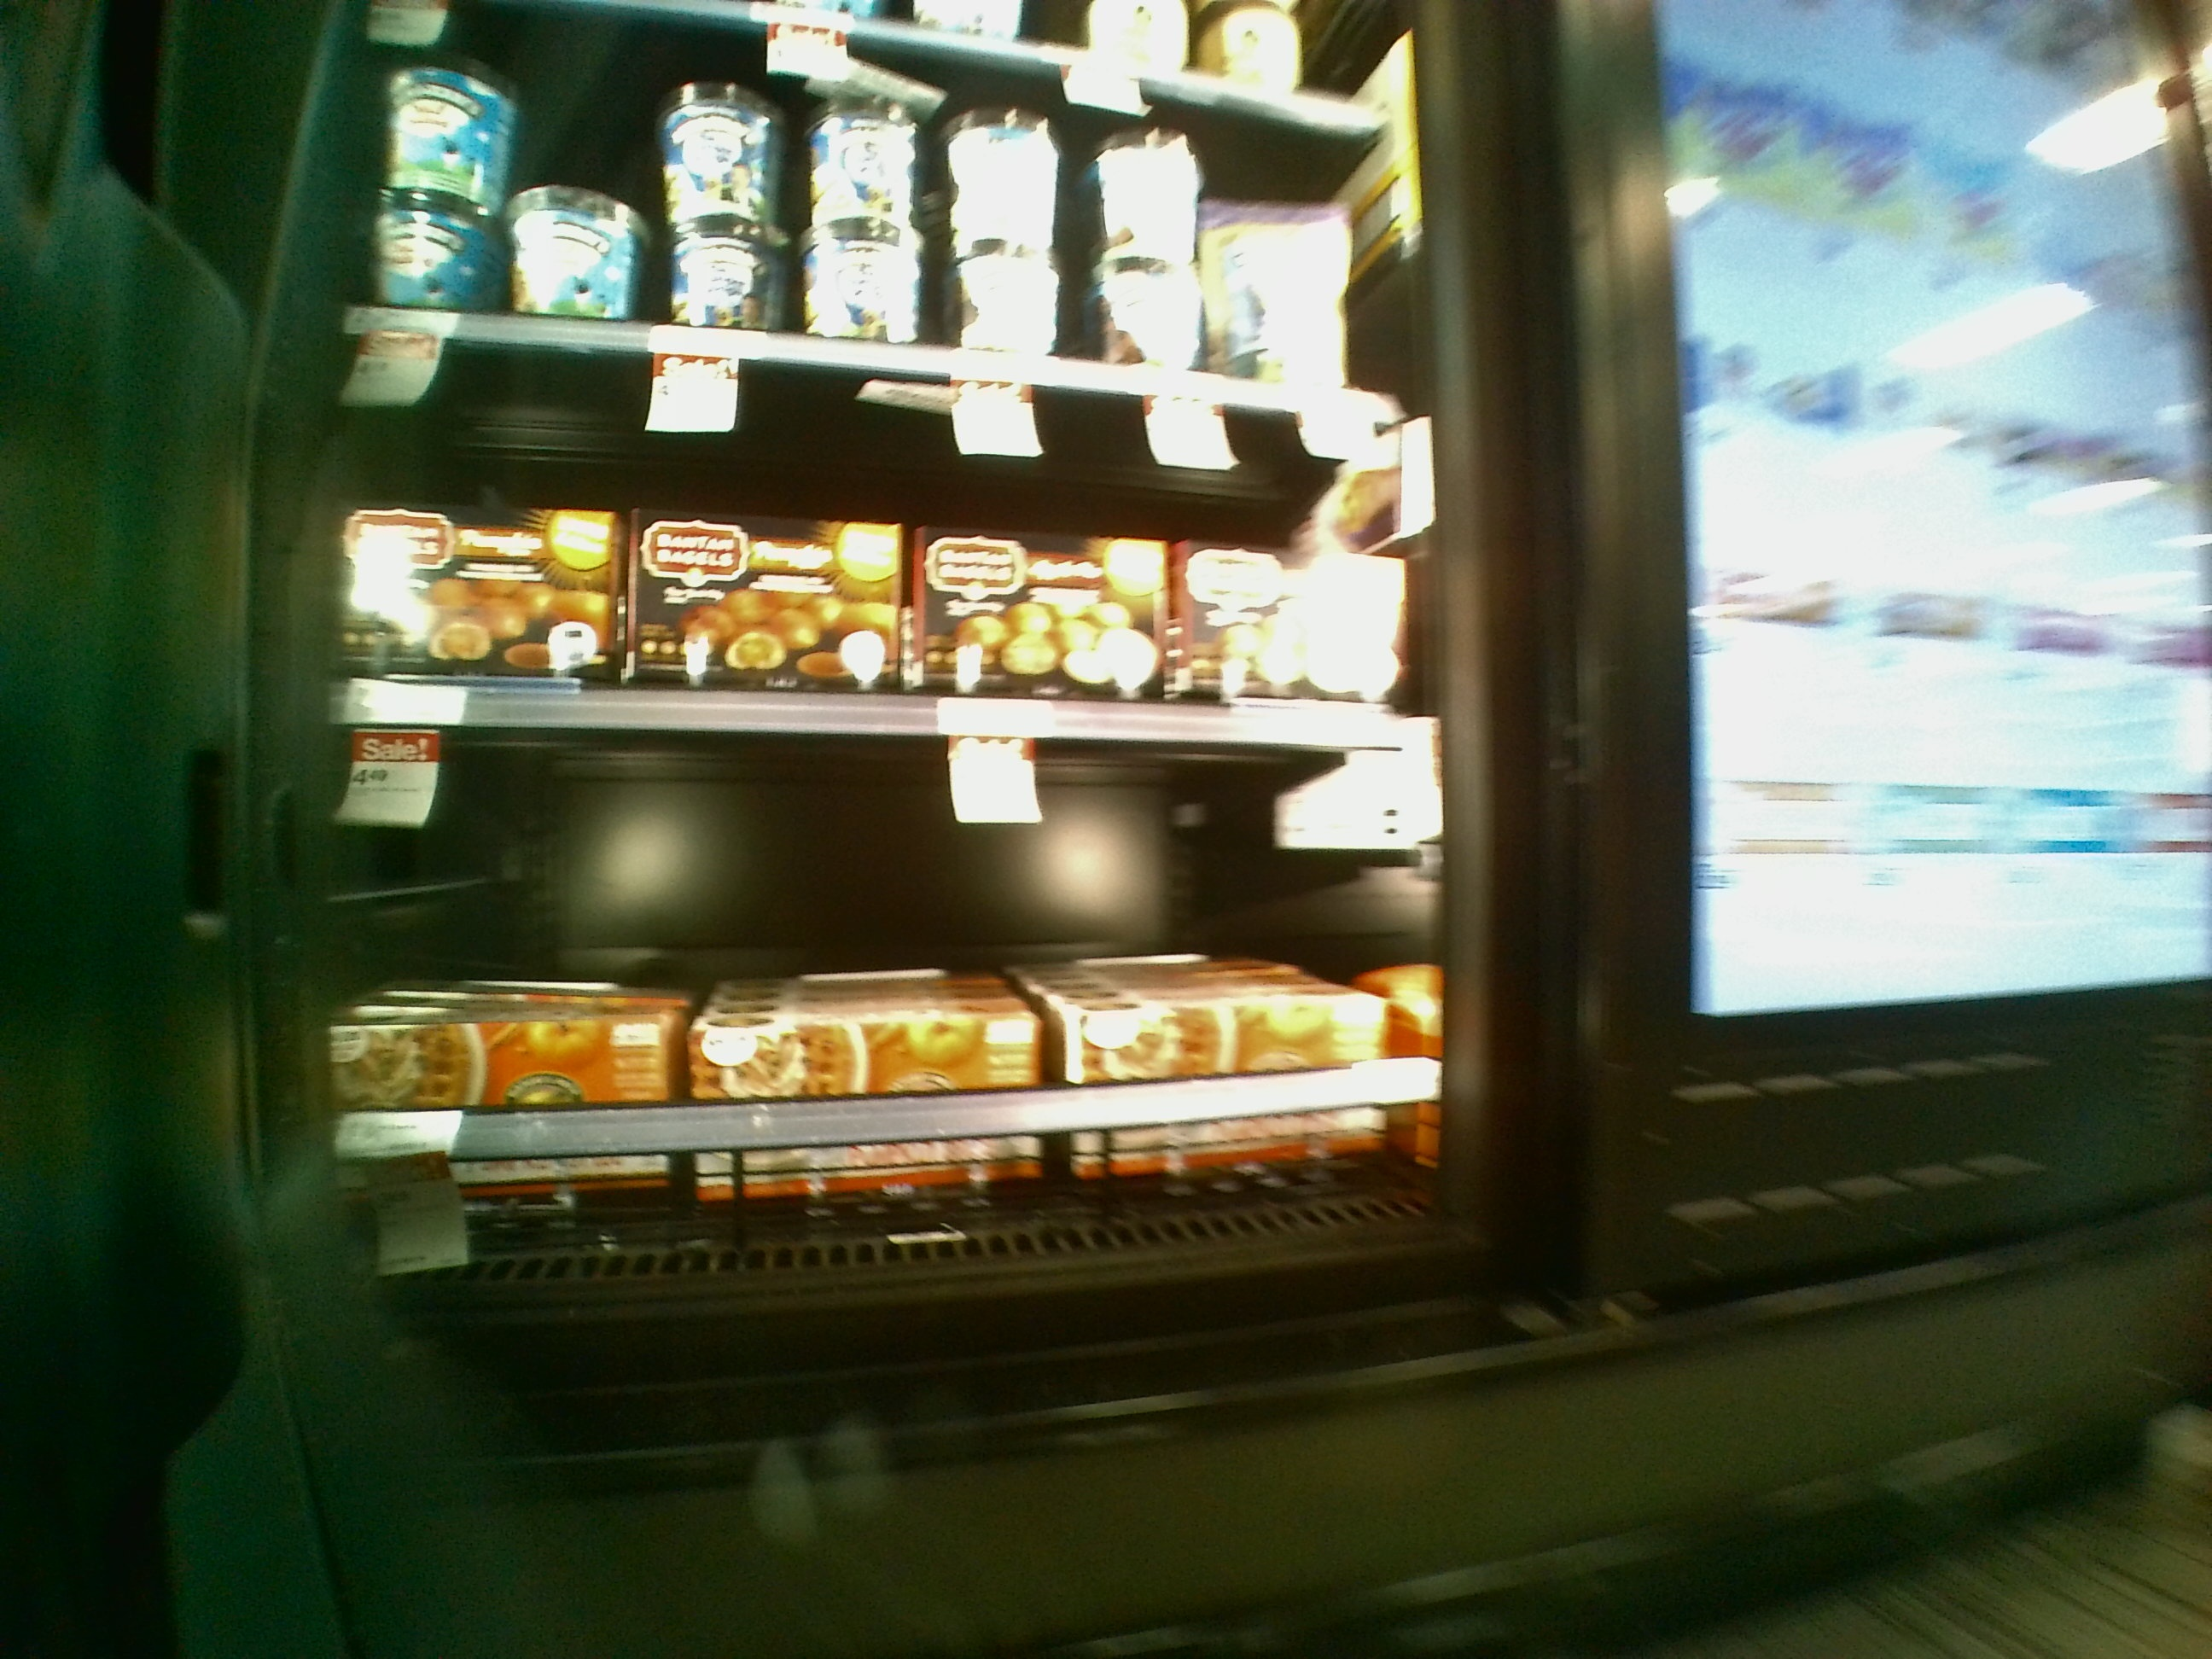shelf: (268, 683, 1507, 1283), (280, 321, 1460, 746)
